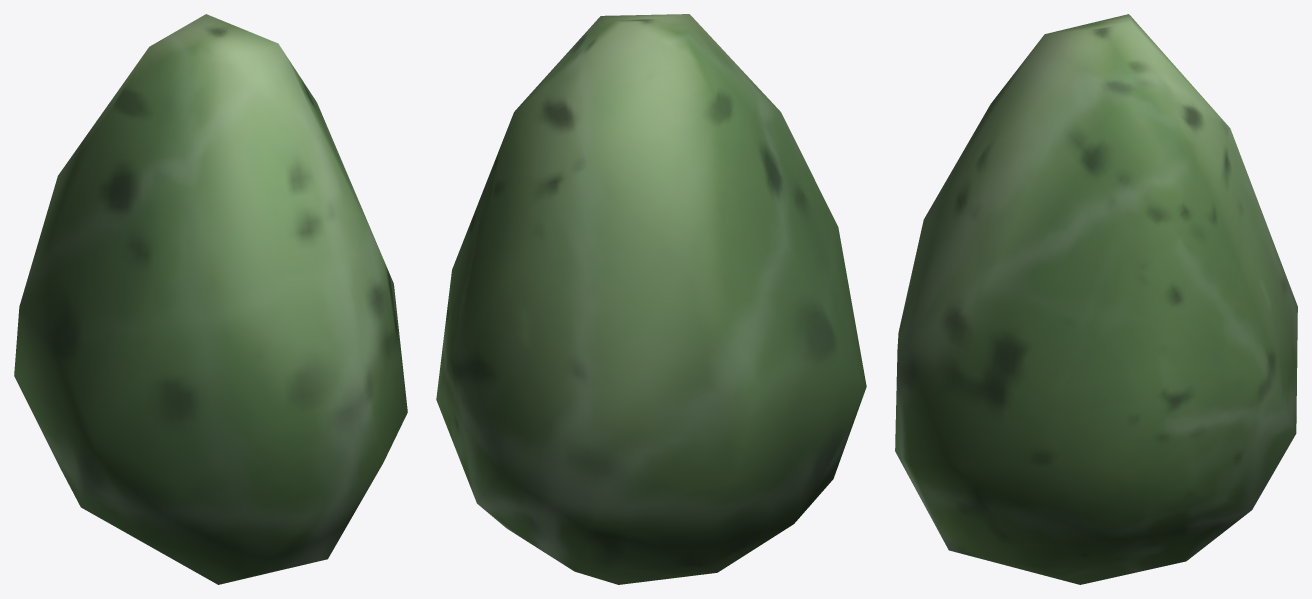
The model's file is SM_Gem_Jade_Piece_001.fbx.
3 views of the same model, side by side, from view 1: azimuth 30°, elevation 25°; view 2: azimuth 150°, elevation 25°; view 3: azimuth 270°, elevation 25° (orthographic). The views are drawn at different scales.
Parts seen in each view (by area): view 1: SM_Gem_Jade_Piece_001; view 2: SM_Gem_Jade_Piece_001; view 3: SM_Gem_Jade_Piece_001.
Part boxes in pixels (left/top/right/bottom): SM_Gem_Jade_Piece_001: left=14, top=14, right=407, bottom=584; SM_Gem_Jade_Piece_001: left=436, top=14, right=866, bottom=584; SM_Gem_Jade_Piece_001: left=895, top=14, right=1297, bottom=584.
Bounding box in the file's own units: 12.3 × 18.27 × 12.42.
